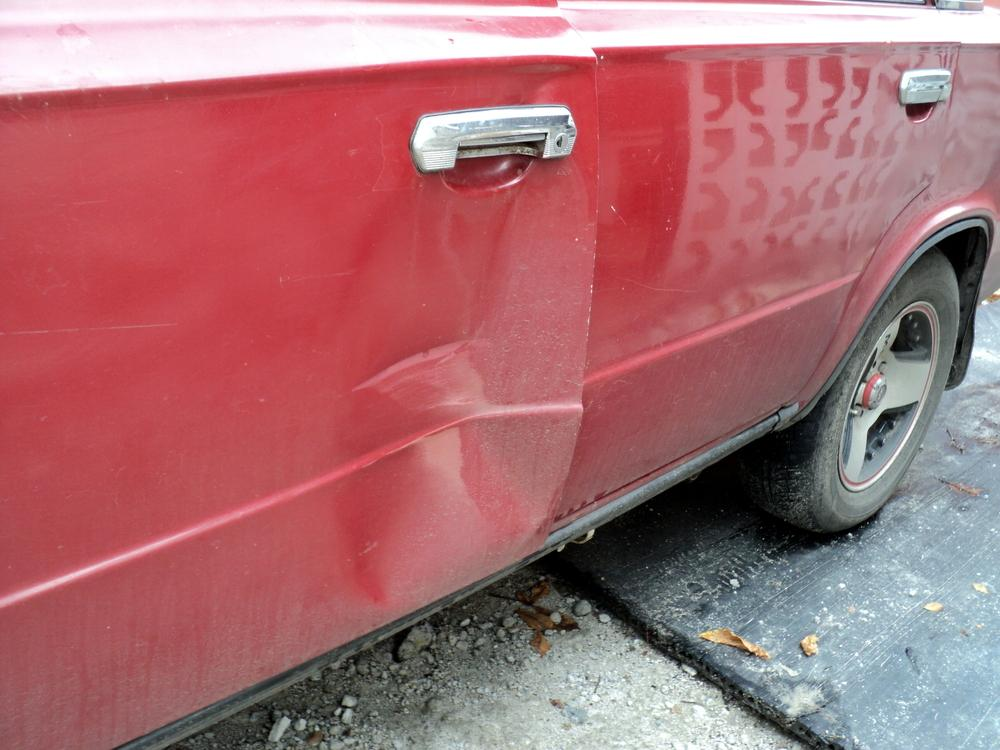dent: (336, 159, 583, 610)
